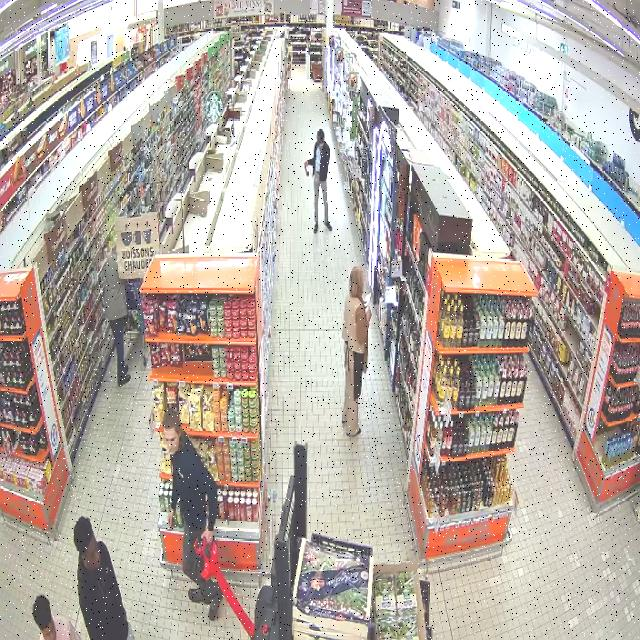article: (305, 166, 310, 177)
hands: (202, 527, 213, 543), (168, 509, 174, 527), (366, 307, 371, 324), (304, 160, 308, 168)
person: (163, 410, 222, 619), (74, 517, 133, 639), (342, 267, 371, 436), (105, 252, 130, 386), (305, 130, 332, 232), (33, 596, 80, 639)
